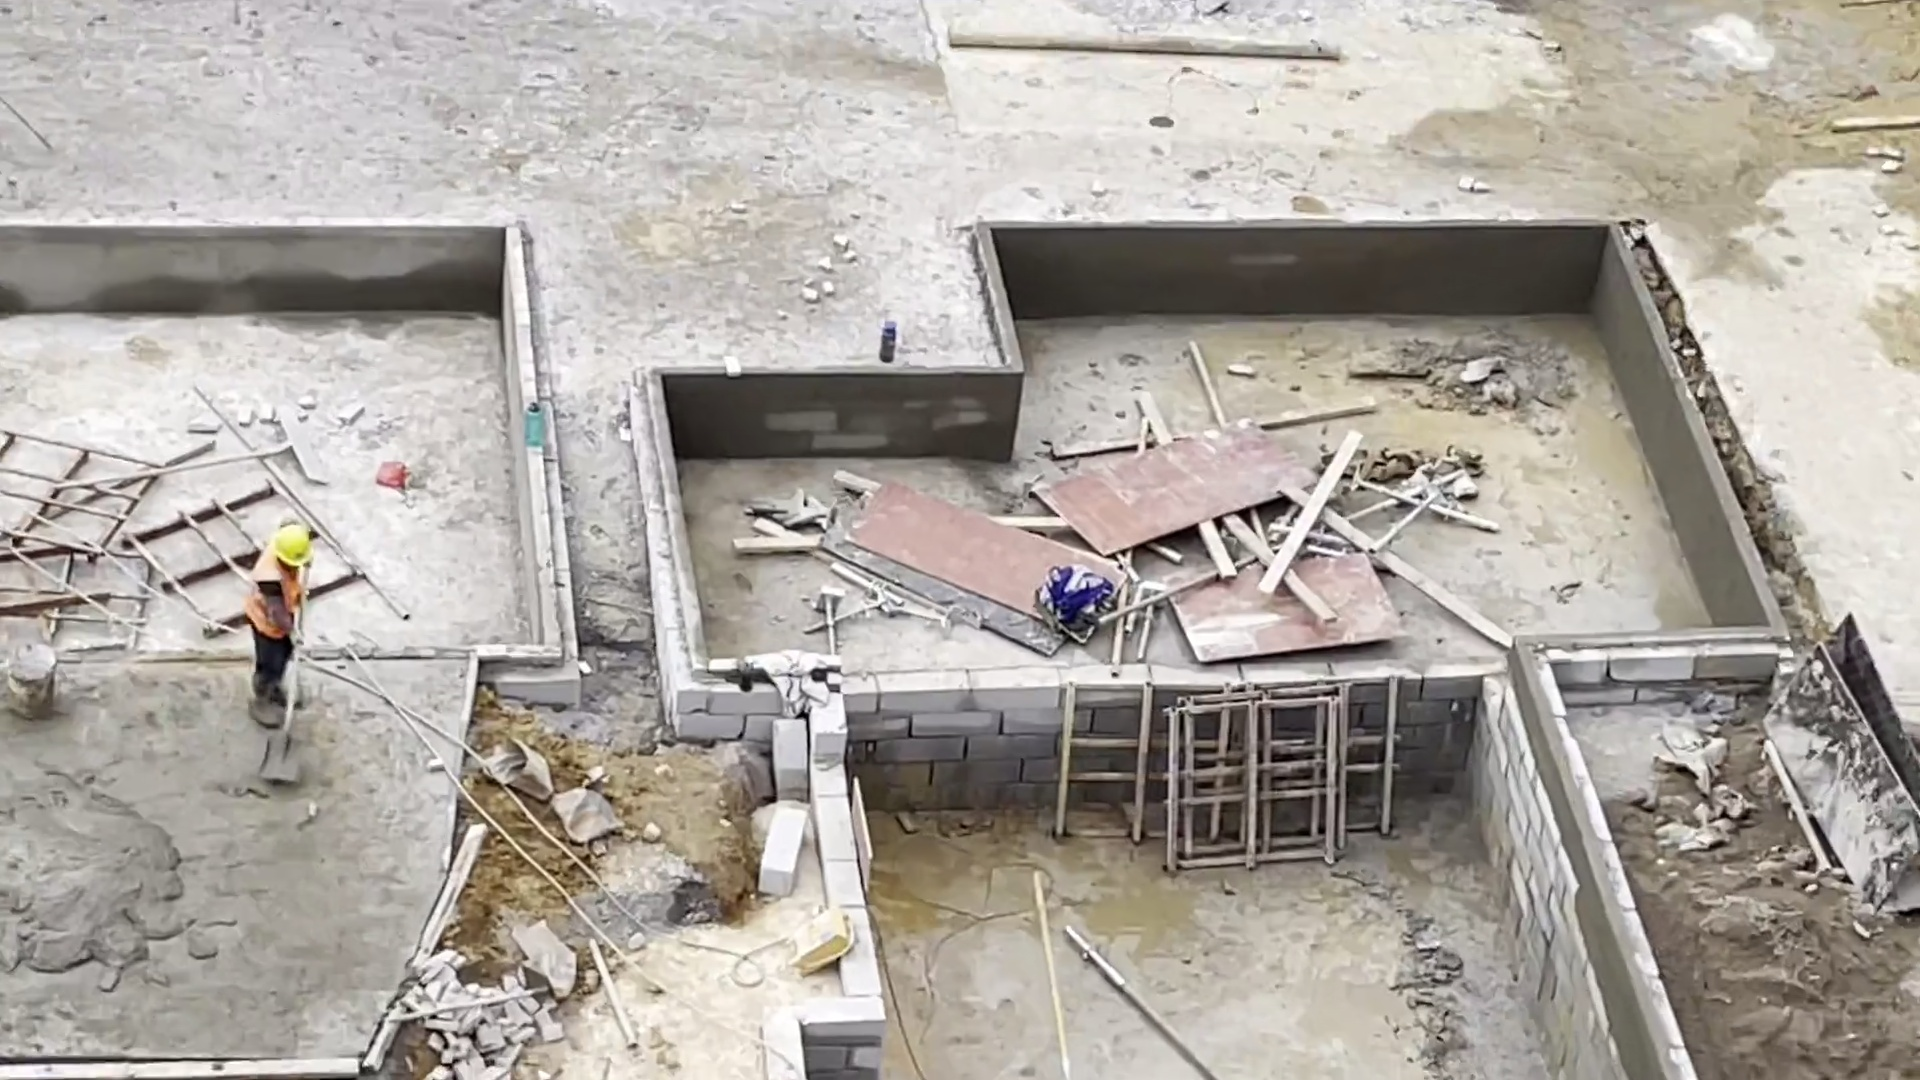helmet: (270, 523, 313, 569)
person: (242, 519, 313, 725)
vest: (245, 541, 310, 638)
